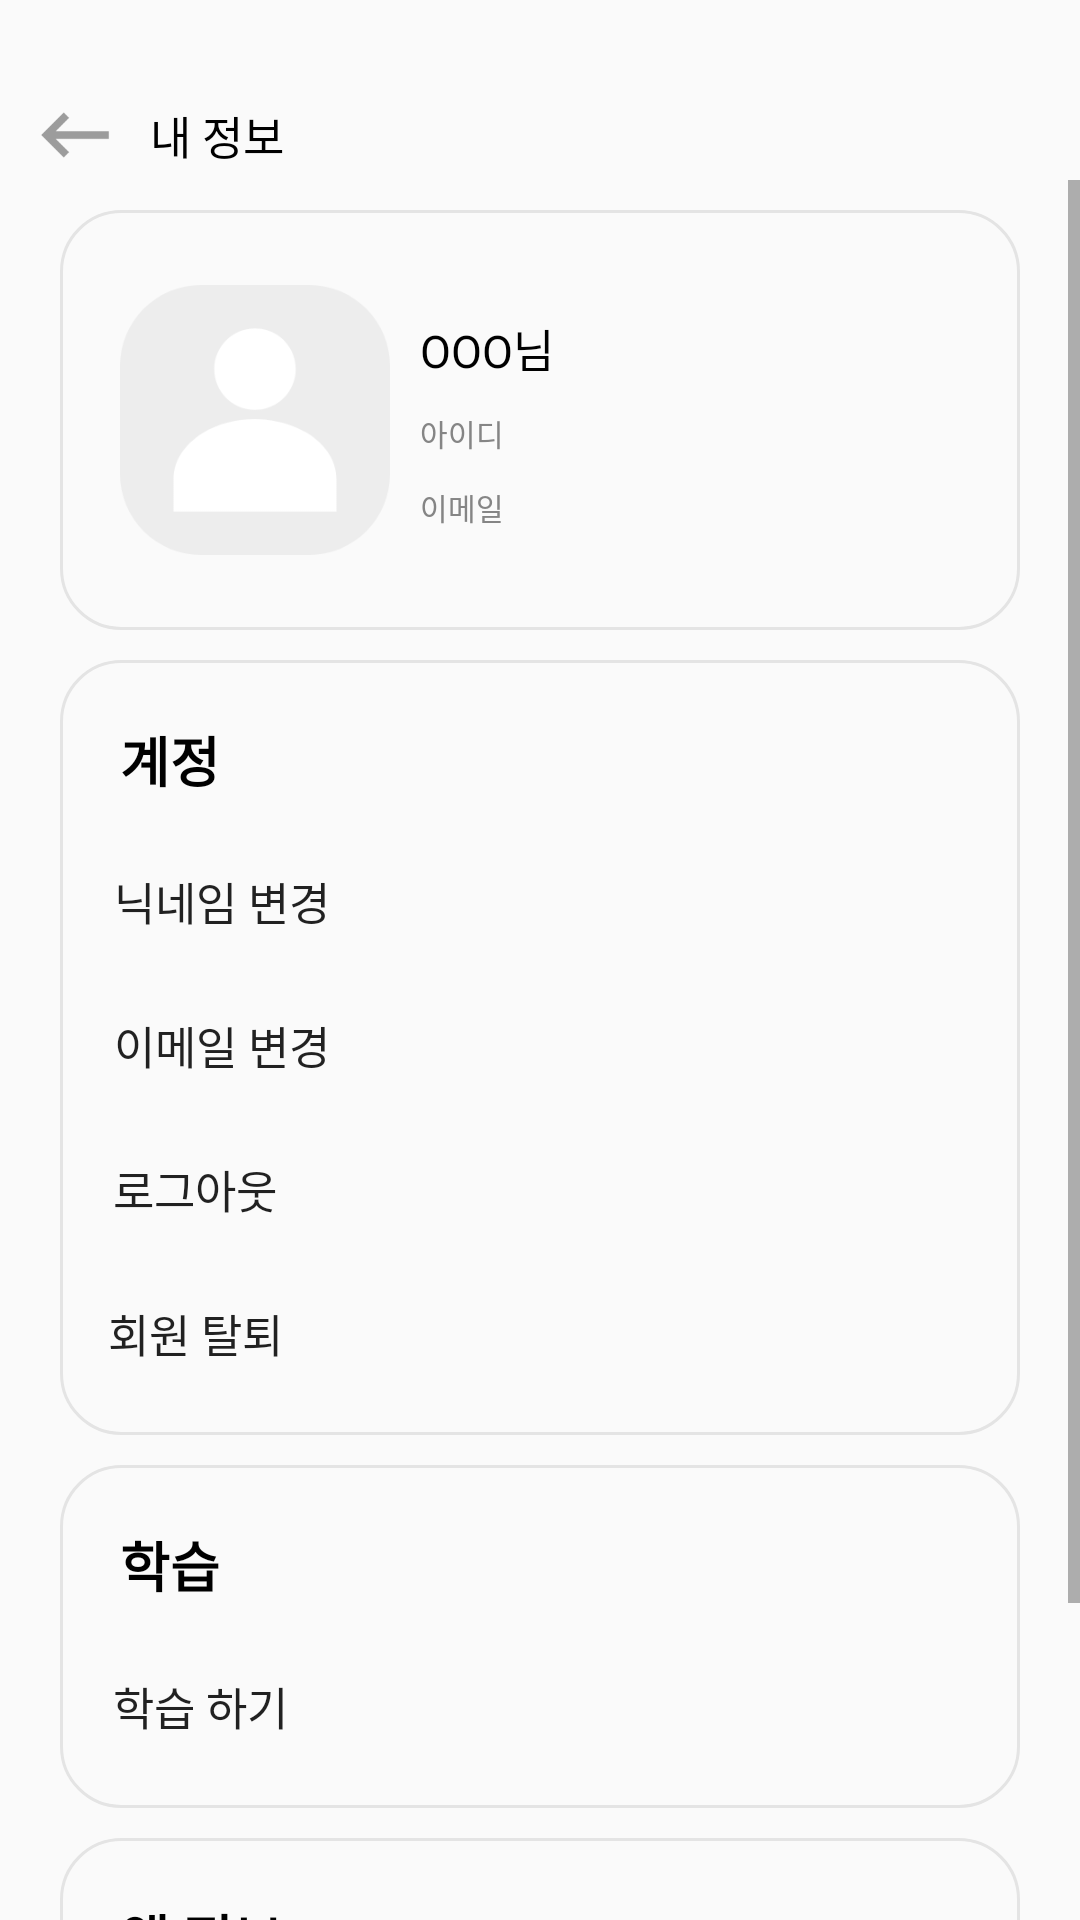

Icon click points for this 1080 x 1920 phone screenshot, format (x,y):
back: (75,135)
